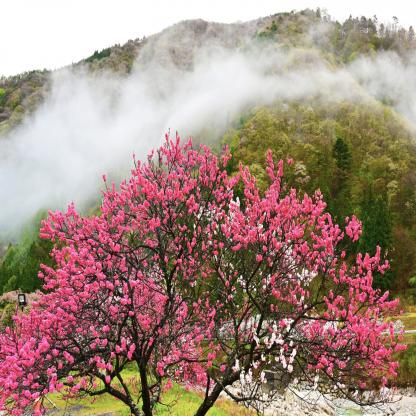Momo: (0, 127, 416, 416)
